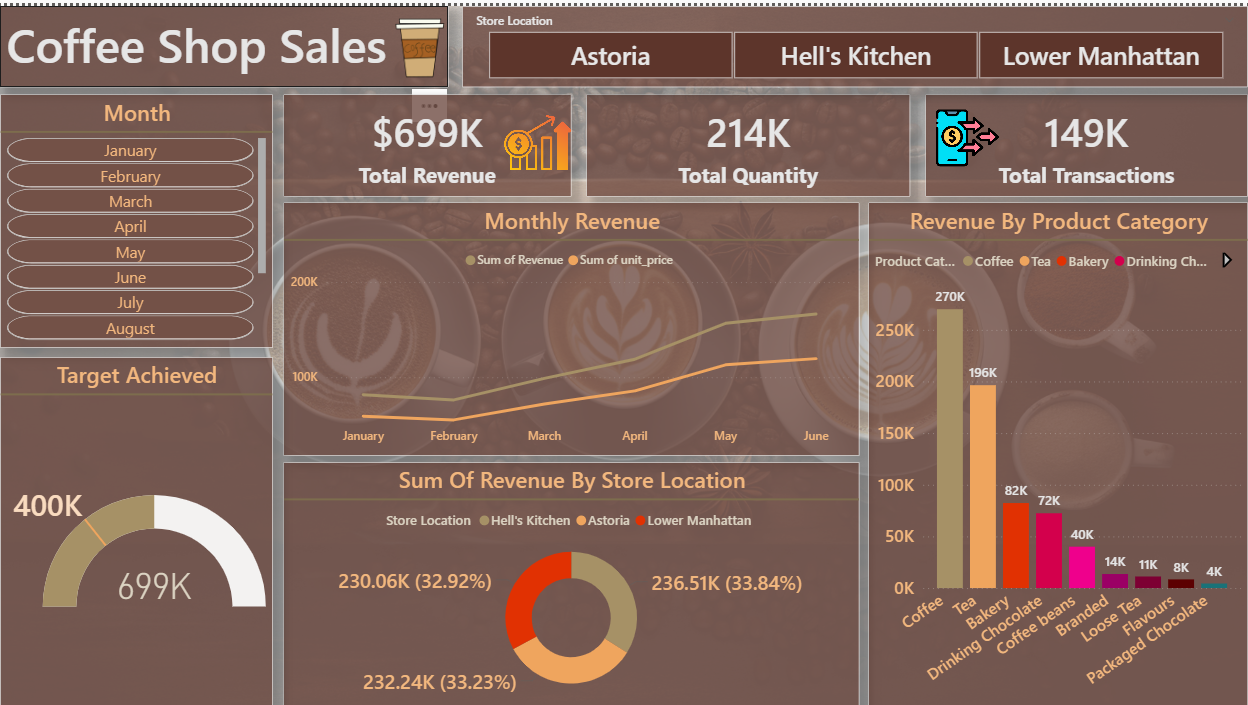

Layout of this report page (visuals, bound fields, positions):
{"tool":"powerbi","page":{"name":"Page 1","canvas":[1280,720],"ordinal":0},"visuals":[{"type":"textbox","box":[387.6,0,505.7,90.9],"z":0},{"type":"card","fields":{"Values":["CoffeeSales.Total_Revnue"]},"box":[289.2,101.5,228.6,125.7],"z":1000},{"type":"card","fields":{"Values":["Sum(CoffeeSales.transaction_qty)"]},"box":[528.5,99.9,230.2,127.2],"z":2000},{"type":"card","fields":{"Values":["CountNonNull(CoffeeSales.transaction_id)"]},"box":[766.2,99.9,231.7,127.2],"z":3000},{"type":"lineChart","title":"Monthly Revenue","fields":{"Category":["CoffeeSales.transaction_date.Variation.Date Hierarchy.Month"],"Y":["Sum(CoffeeSales.Revenue)","Sum(CoffeeSales.unit_price)"]},"box":[0,233.2,555.7,246.8],"z":4000},{"type":"donutChart","fields":{"Y":["Sum(CoffeeSales.Revenue)"],"Category":["CoffeeSales.store_location"]},"box":[0,484.6,556.9,235.4],"z":5000},{"type":"columnChart","title":"Revenue by Product Category","fields":{"Y":["Sum(CoffeeSales.Revenue)"],"Category":["CoffeeSales.product_category"],"Series":["CoffeeSales.product_category"]},"box":[561.8,233.2,435,486.1],"z":6000},{"type":"gauge","title":"Target Achieved","fields":{"Y":["CoffeeSales.Total_Revnue"],"TargetValue":["CoffeeSales.Target"]},"box":[1005.4,513.3,275,204],"z":7000},{"type":"listSlicer","fields":{"Values":["CoffeeSales.transaction_date.Variation.Date Hierarchy.Month"]},"box":[0,0,278.5,227],"z":8000},{"type":"slicer","fields":{"Values":["CoffeeSales.product_category"]},"box":[1008.5,0,271,227],"z":9000},{"type":"image","box":[243.8,0,165,106],"z":10000},{"type":"image","box":[863.1,0,165,106],"z":11000},{"type":"treemap","title":"Revenue VS Price","fields":{"Group":["CoffeeSales.product_category"],"Values":["Sum(CoffeeSales.Revenue)","Sum(CoffeeSales.unit_price)"]},"box":[1008.5,233.2,271,268],"z":12000}]}

Visuals, with their boxes in screenshot pixels (x1, y1, x2, y2), scaled from the page's 1280x720 canvas onto the 1248x705 screenshot:
textbox: box(378, 0, 871, 89)
card - CoffeeSales.Total_Revnue: box(282, 99, 505, 222)
card - Sum(CoffeeSales.transaction_qty): box(515, 98, 740, 222)
card - CountNonNull(CoffeeSales.transaction_id): box(747, 98, 973, 222)
"Monthly Revenue" lineChart: box(0, 228, 542, 470)
donutChart - Sum(CoffeeSales.Revenue) x CoffeeSales.store_location: box(0, 475, 543, 704)
"Revenue by Product Category" columnChart: box(548, 228, 972, 704)
"Target Achieved" gauge: box(980, 503, 1247, 702)
listSlicer - CoffeeSales.transaction_date.Variation.Date Hierarchy.Month: box(0, 0, 272, 222)
slicer - CoffeeSales.product_category: box(983, 0, 1247, 222)
image: box(238, 0, 399, 104)
image: box(842, 0, 1002, 104)
"Revenue VS Price" treemap: box(983, 228, 1247, 491)
